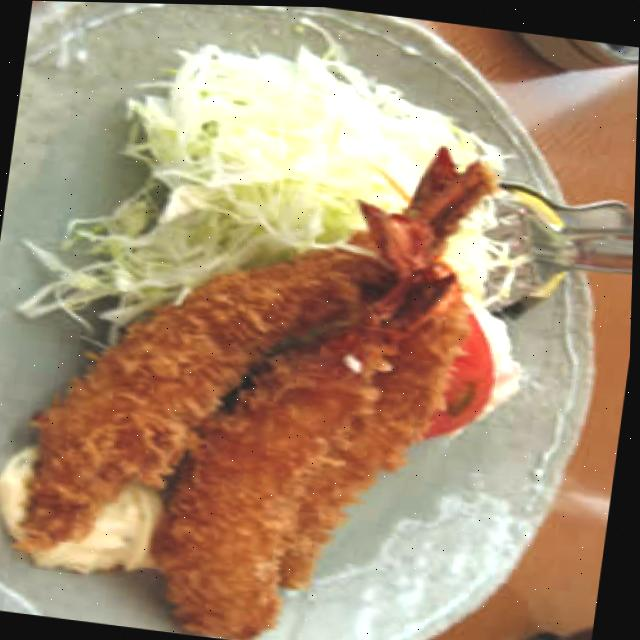炸货点心: (0, 61, 563, 640)
熟制海鲜: (0, 61, 563, 640)
